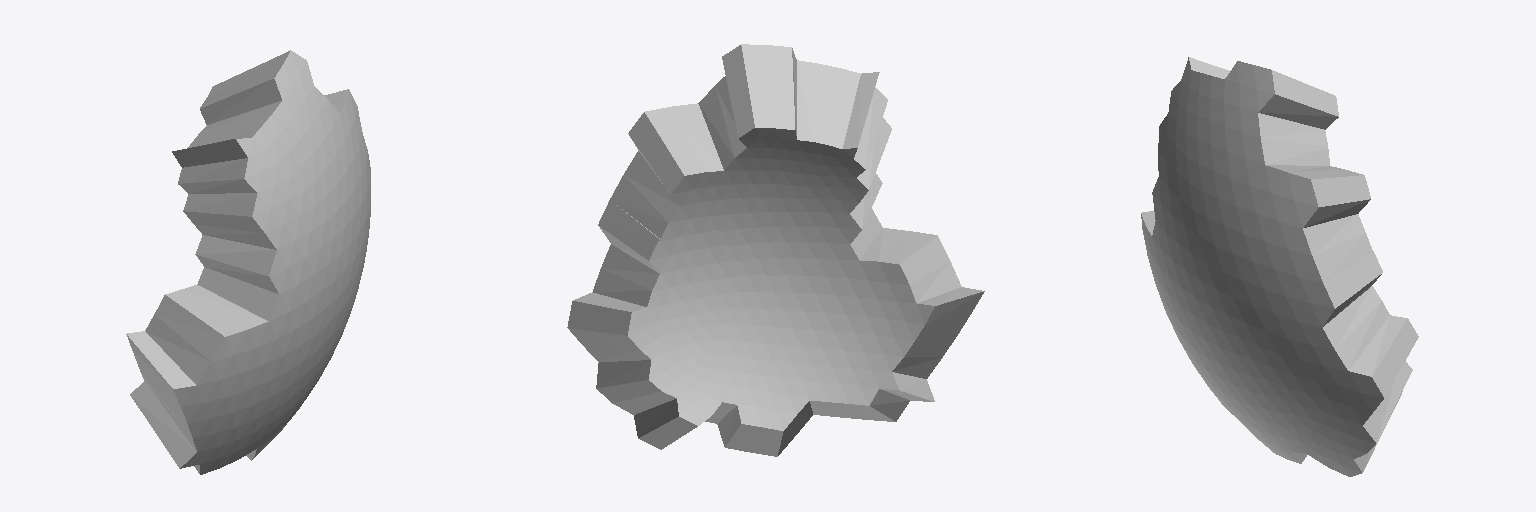
File: clouds_18.obj
3 renders of one model, left to right at view 1: azimuth 30°, elevation 25°; view 2: azimuth 150°, elevation 25°; view 3: azimuth 270°, elevation 25°, orthographic.
Visible parts, largest first — view 1: Icosphere.043; view 2: Icosphere.043; view 3: Icosphere.043.
Boxes of the visible parts, x1,y1,x2,y2 form: Icosphere.043: [126, 50, 370, 474]; Icosphere.043: [567, 44, 984, 456]; Icosphere.043: [1141, 57, 1418, 476].
Size of the model in its own units: 10.45 by 13.41 by 8.39.